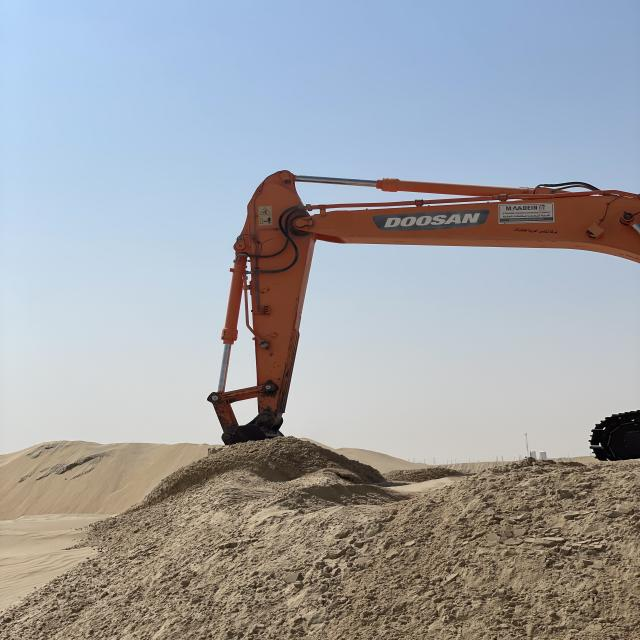Excavator: (206, 166, 640, 454)
